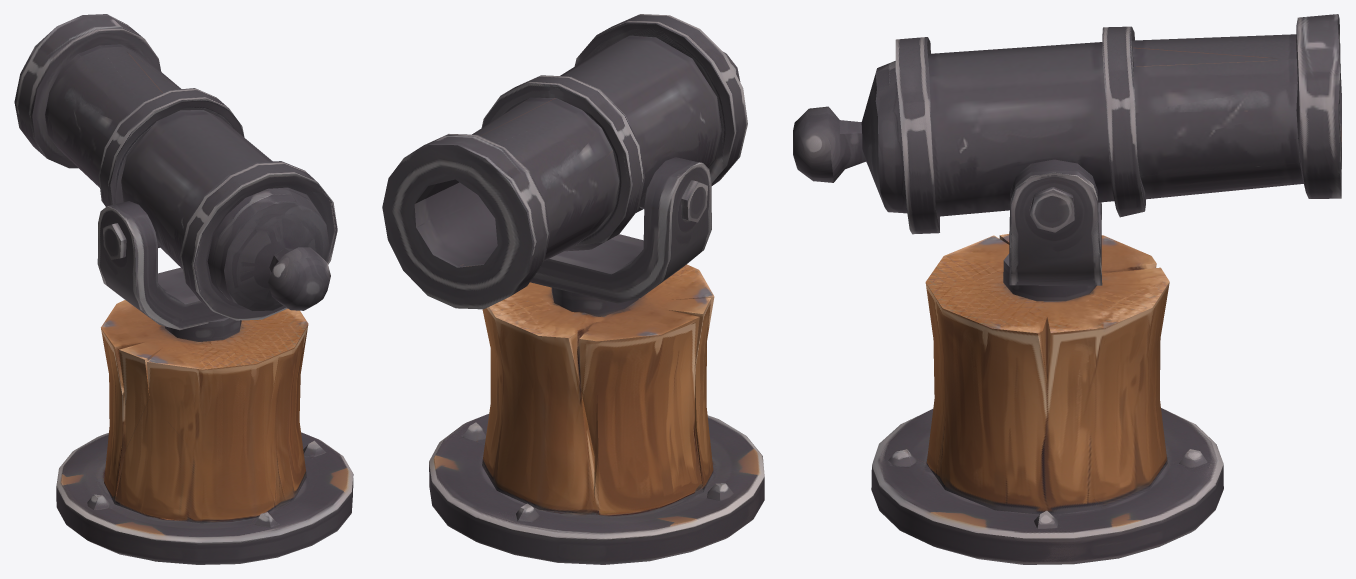
The model's file is cannon-side-1000.glb.
3 views of the same model, side by side, from view 1: azimuth 30°, elevation 25°; view 2: azimuth 150°, elevation 25°; view 3: azimuth 270°, elevation 25° (orthographic). The views are drawn at different scales.
Visible parts, largest first — view 1: mount, barrel; view 2: mount, barrel; view 3: mount, barrel.
Boxes of the visible parts, bbox=[...] form: mount: bbox=[56, 201, 353, 564]; barrel: bbox=[14, 14, 337, 341]; mount: bbox=[429, 157, 764, 564]; barrel: bbox=[382, 14, 747, 316]; mount: bbox=[871, 159, 1223, 564]; barrel: bbox=[793, 14, 1341, 301].
Size of the model in its own units: 0.6373 by 0.9489 by 1.
Materials: 1 (1 with a texture image).
